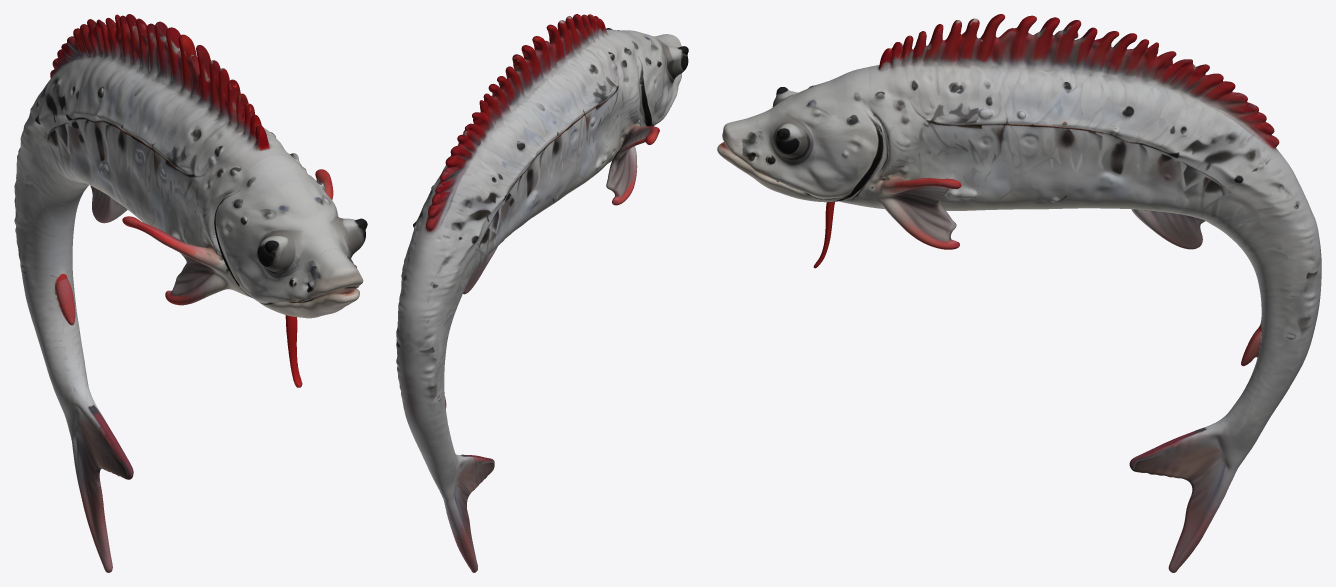
File: oarX_5.glb
3 renders of one model, left to right at view 1: azimuth 30°, elevation 25°; view 2: azimuth 150°, elevation 25°; view 3: azimuth 270°, elevation 25°, orthographic. The views are drawn at different scales.
Parts seen in each view (by area): view 1: tripo_node_53bd23ed-8169-4508-be5a-6d621c36056e; view 2: tripo_node_53bd23ed-8169-4508-be5a-6d621c36056e; view 3: tripo_node_53bd23ed-8169-4508-be5a-6d621c36056e.
Boxes of the visible parts, x1,y1,x2,y2 form: tripo_node_53bd23ed-8169-4508-be5a-6d621c36056e: (14,14,367,572); tripo_node_53bd23ed-8169-4508-be5a-6d621c36056e: (396,14,688,572); tripo_node_53bd23ed-8169-4508-be5a-6d621c36056e: (717,14,1321,572).
Bounding box in the file's own units: 0.3557 × 1 × 0.9814.
Materials: 1 (1 with a texture image).
